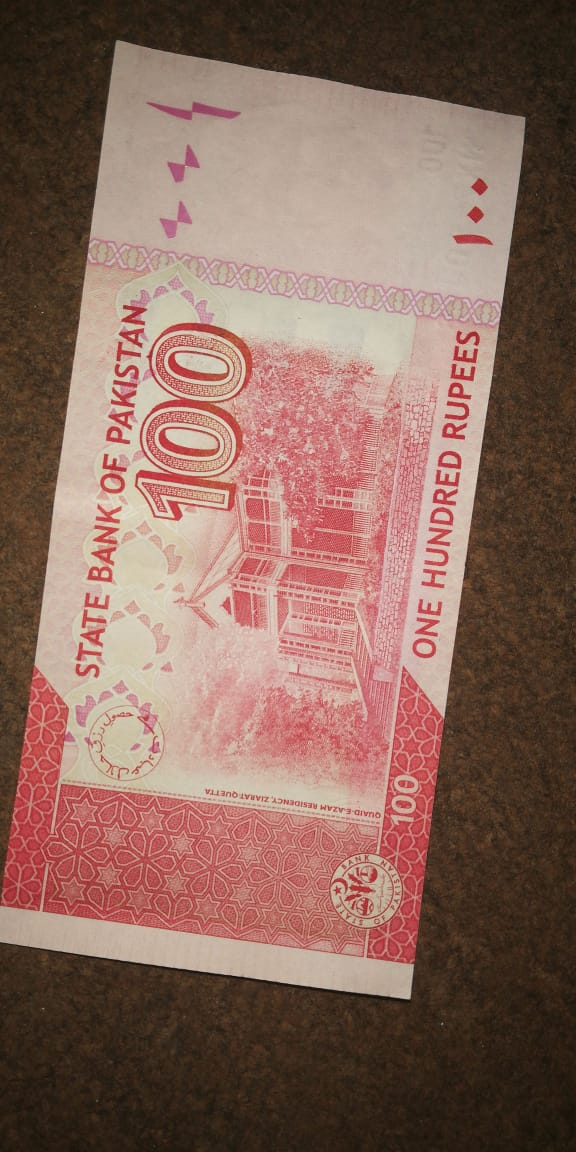100 rupee: (6, 42, 521, 1000)
